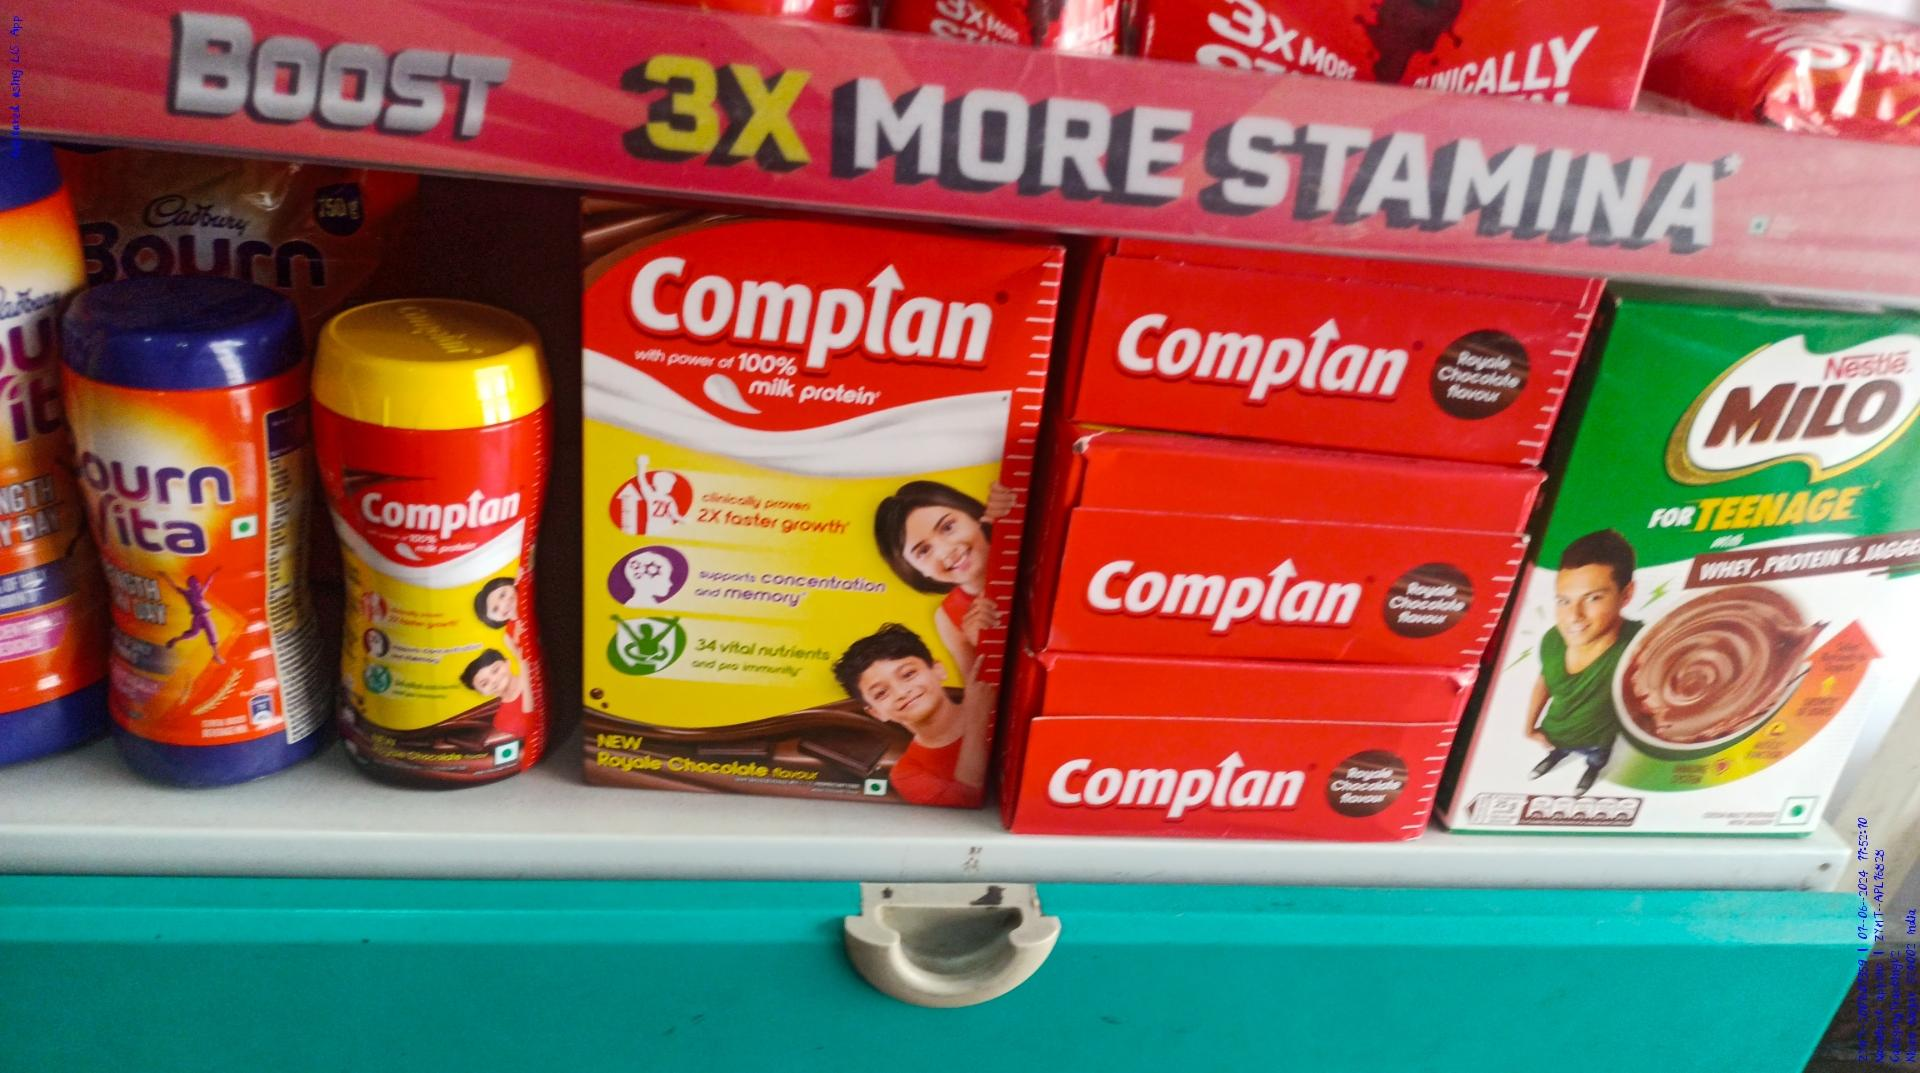BOURN_VITA_1_KG_JAR: (71, 311, 310, 784)
COMPLAN_CHOCOLATE_500_GMS_JAR: (314, 318, 551, 791)
COMPLAN_CHOCOLATE_500_GMS_PACK: (572, 208, 997, 805)
